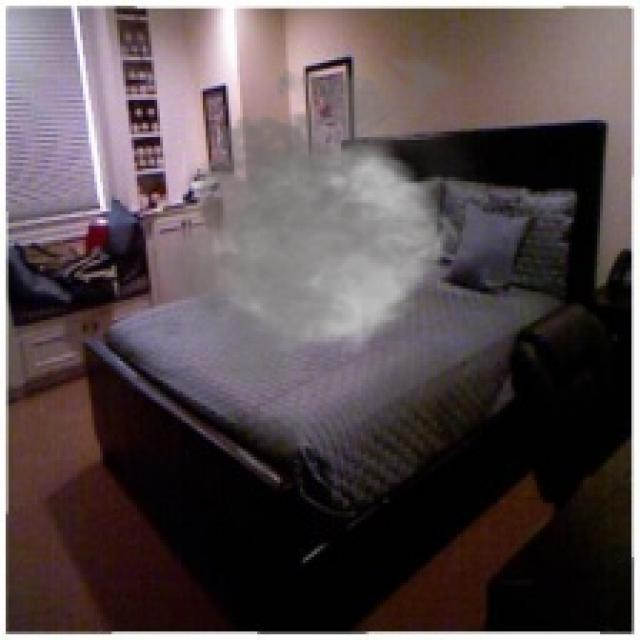Smoke: (139, 46, 512, 403)
